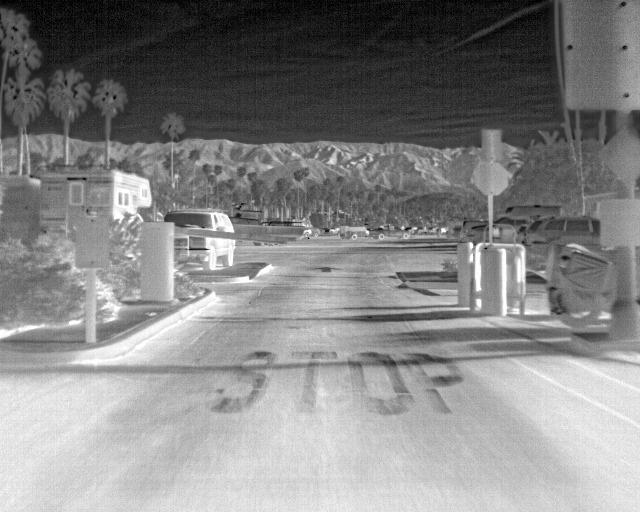car: (525, 216, 603, 277), (173, 237, 235, 271), (162, 206, 231, 228), (496, 213, 530, 242), (369, 222, 413, 240), (464, 218, 487, 244), (451, 226, 464, 240), (435, 225, 449, 237), (422, 224, 435, 236)
